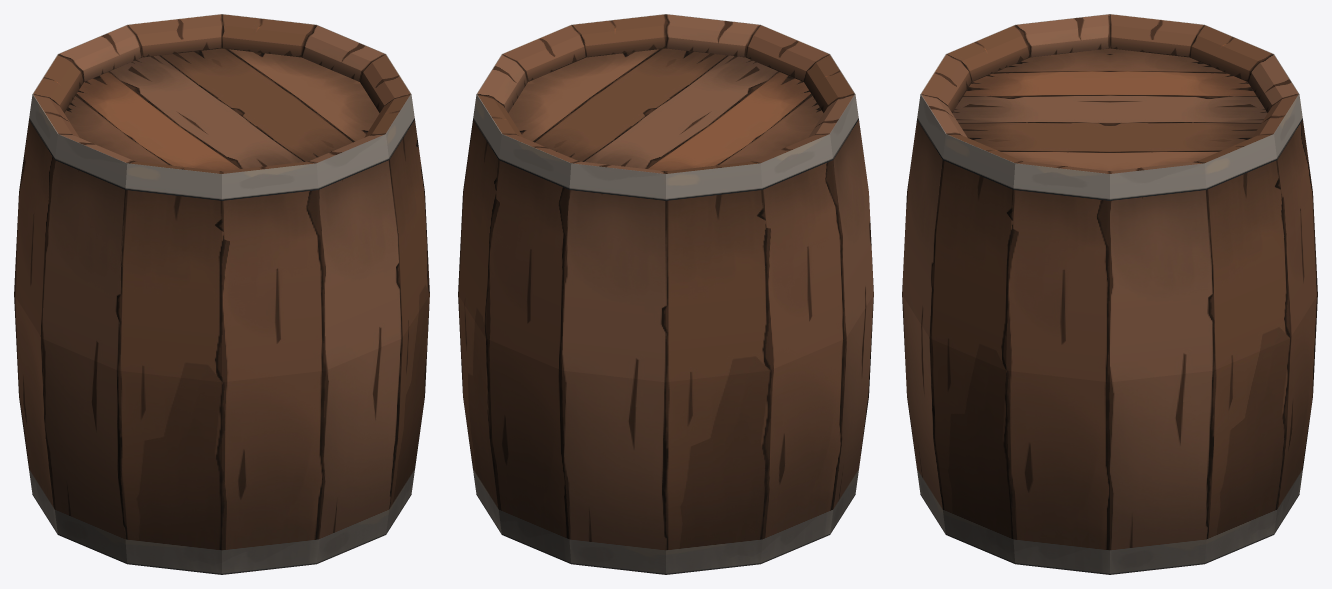
File: Barrel.fbx
The picture shows the model from 3 angles, left to right: view 1: azimuth 30°, elevation 25°; view 2: azimuth 150°, elevation 25°; view 3: azimuth 270°, elevation 25°; orthographic projection.
Visible parts, largest first — view 1: polySurface4; view 2: polySurface4; view 3: polySurface4.
Part boxes in pixels (<box>): polySurface4: <box>14,14,429,574</box>; polySurface4: <box>458,14,873,574</box>; polySurface4: <box>902,14,1317,574</box>.
Bounding box in the file's own units: 1.05 × 1.12 × 1.05.
